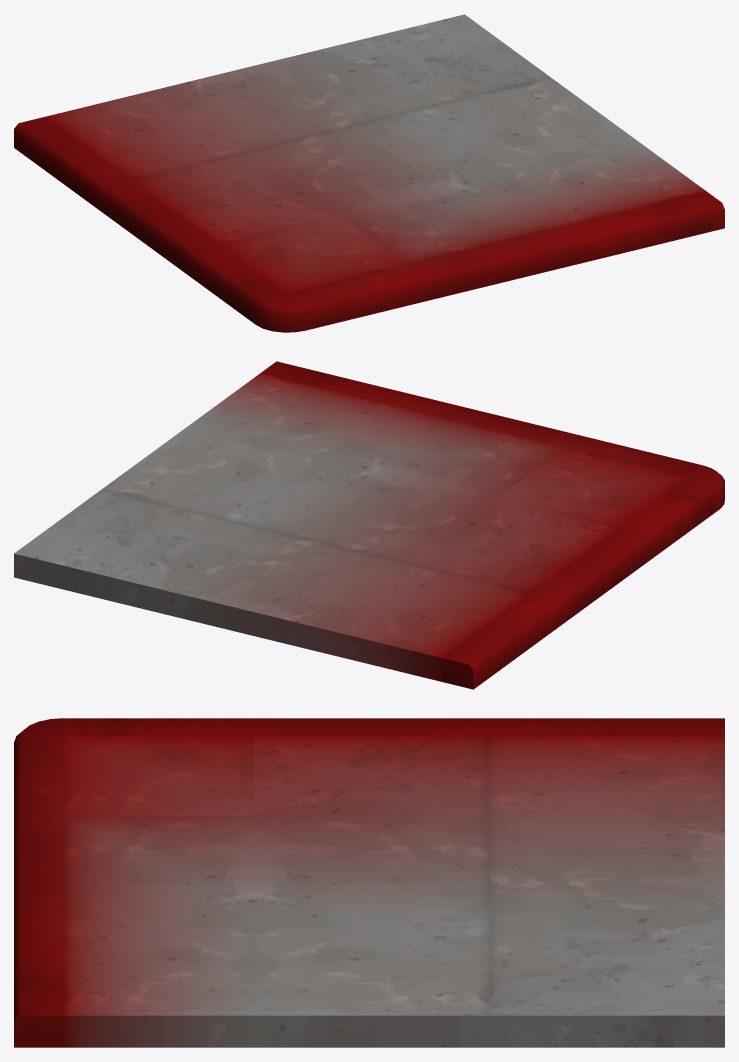
Rendered from Sidewalk_Corner_Flat_3m.glb.
The picture shows the model from 3 angles, top to bottom: view 1: azimuth 30°, elevation 25°; view 2: azimuth 150°, elevation 25°; view 3: azimuth 270°, elevation 25°; orthographic projection. The views are drawn at different scales.
Parts seen in each view (by area): view 1: Sidewalk_Corner_Flat_3m; view 2: Sidewalk_Corner_Flat_3m; view 3: Sidewalk_Corner_Flat_3m.
Boxes of the visible parts, x1,y1,x2,y2 form: Sidewalk_Corner_Flat_3m: (14,14,724,332); Sidewalk_Corner_Flat_3m: (14,361,724,689); Sidewalk_Corner_Flat_3m: (14,718,724,1047).
Bounding box in the file's own units: 3.01 × 0.1499 × 3.01.
1 material, 1 textured.
